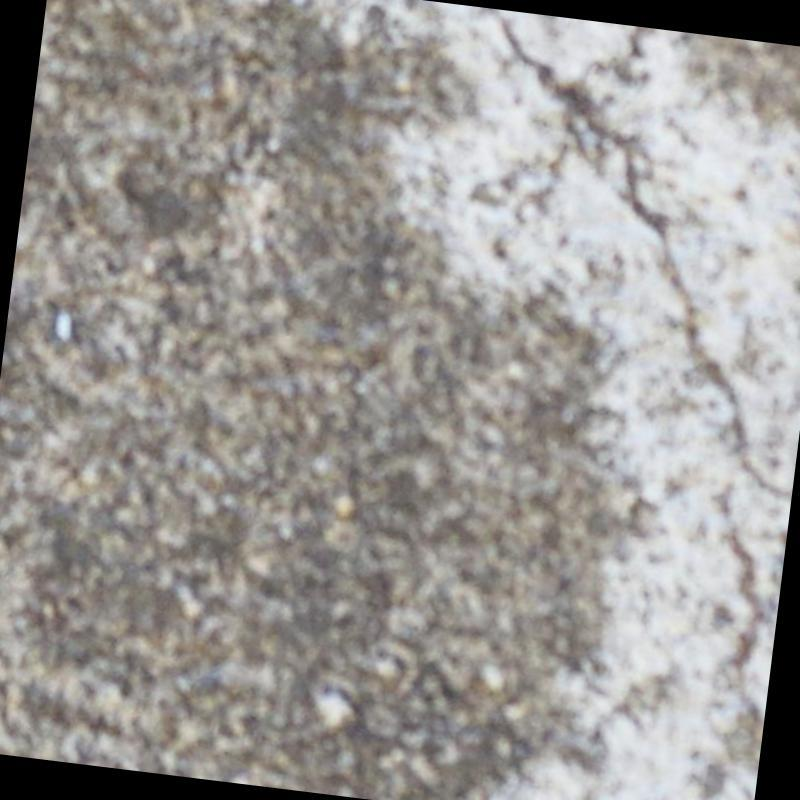pothole: (501, 17, 791, 498)
